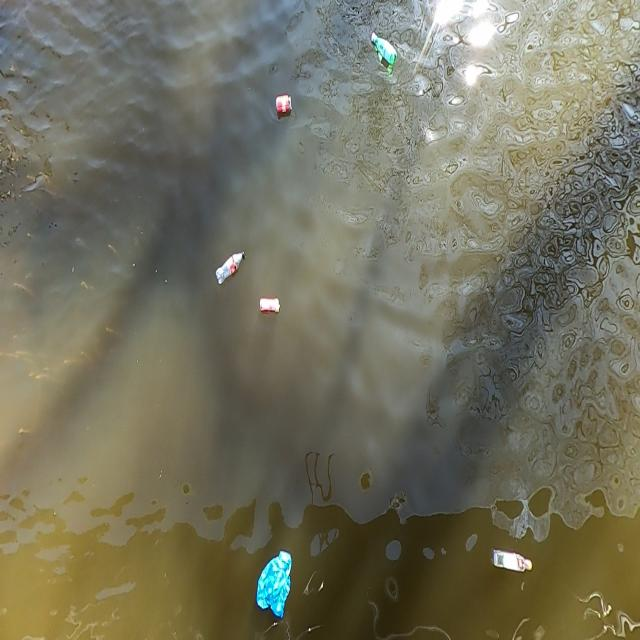Bouteille plastique: (215, 248, 250, 293), (370, 32, 399, 70), (491, 550, 532, 576)
Non plastique: (274, 92, 294, 124), (259, 296, 283, 317)
